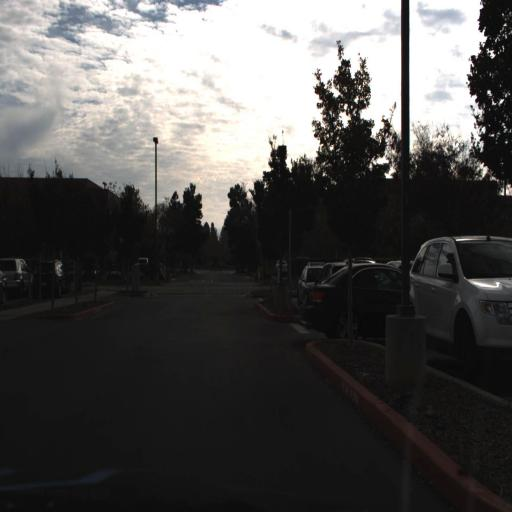car: (402, 230, 511, 376), (303, 258, 412, 340), (26, 254, 68, 302), (0, 255, 32, 297), (271, 254, 290, 276)
